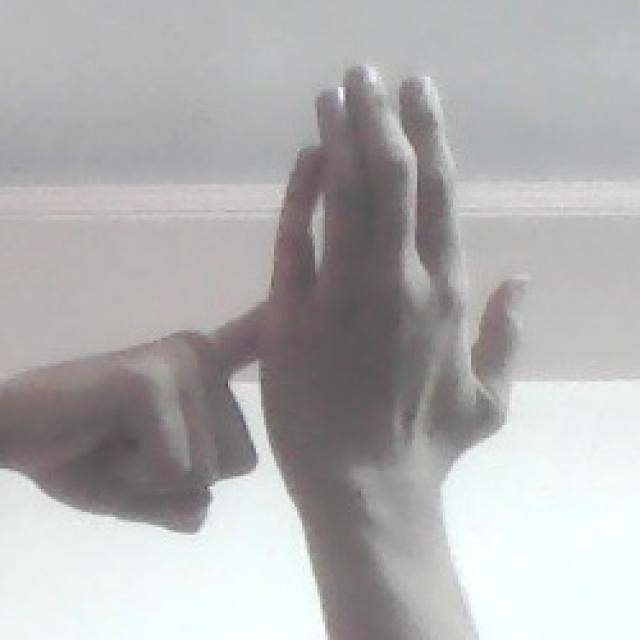Alphabet-R: (0, 49, 546, 532)
